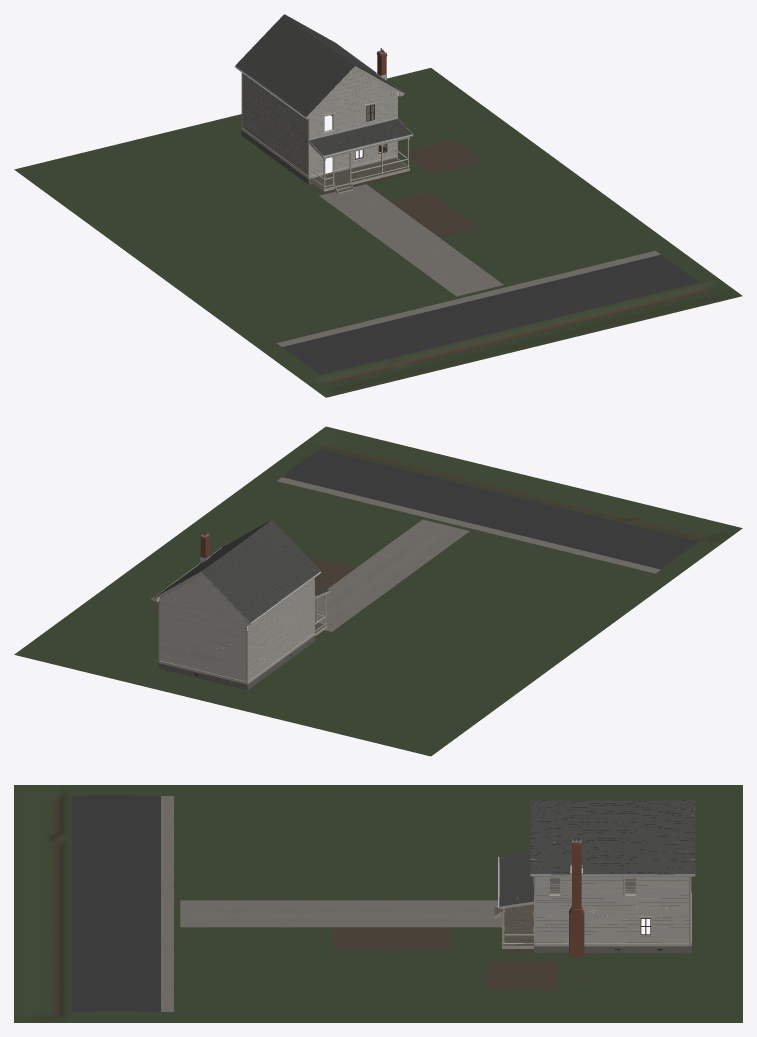
Rendered from house_exterior.glb.
The picture shows the model from 3 angles, top to bottom: view 1: azimuth 30°, elevation 25°; view 2: azimuth 150°, elevation 25°; view 3: azimuth 270°, elevation 25°; orthographic projection. The views are drawn at different scales.
Visible parts, largest first — view 1: EXT2_terrain, EXT2_roof_W, EXT2_siding_S, EXT2_siding_W, EXT2_porch_roof, EXT2_porch, EXT2_trim, EXT2_porch_deck, EXT2_roof_E, EXT2_roof_trim; view 2: EXT2_terrain, EXT2_siding_N, EXT2_roof_W, EXT2_siding_W, EXT2_foundation, EXT2_trim, EXT2_roof_E, EXT2_roof_trim; view 3: EXT2_terrain, EXT2_roof_E, EXT2_siding_E, EXT2_porch_roof, EXT2_chimney, EXT2_trim, EXT2_porch_deck, EXT2_foundation, EXT2_roof_trim, EXT2_porch.
Part boxes in pixels (box(x1,y1,x2,y2)): EXT2_terrain: box(14, 68, 742, 397); EXT2_roof_W: box(235, 14, 354, 116); EXT2_siding_S: box(310, 69, 397, 175); EXT2_siding_W: box(242, 73, 307, 175); EXT2_porch_roof: box(309, 119, 412, 155); EXT2_porch: box(310, 137, 409, 193); EXT2_trim: box(241, 73, 397, 178); EXT2_porch_deck: box(311, 158, 409, 188); EXT2_roof_E: box(286, 15, 402, 92); EXT2_roof_trim: box(234, 42, 404, 119); EXT2_terrain: box(14, 426, 742, 756); EXT2_siding_N: box(159, 575, 245, 681); EXT2_roof_W: box(201, 520, 320, 622); EXT2_siding_W: box(248, 578, 313, 680); EXT2_foundation: box(158, 620, 315, 690); EXT2_trim: box(158, 578, 314, 684); EXT2_roof_E: box(153, 520, 270, 598); EXT2_roof_trim: box(151, 526, 321, 624); EXT2_terrain: box(14, 785, 742, 1022); EXT2_roof_E: box(530, 800, 695, 874); EXT2_siding_E: box(534, 877, 689, 943); EXT2_porch_roof: box(499, 851, 533, 906); EXT2_chimney: box(569, 837, 584, 956); EXT2_trim: box(533, 826, 691, 945); EXT2_porch_deck: box(502, 904, 533, 945); EXT2_foundation: box(533, 897, 691, 953); EXT2_roof_trim: box(530, 809, 695, 876); EXT2_porch: box(494, 905, 533, 948).
Size of the model in its own units: 44 by 11.33 by 57.
